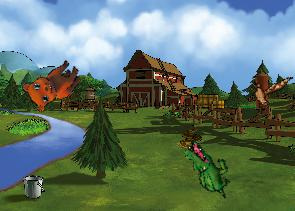bear: (17, 48, 86, 118)
crocodile: (173, 138, 242, 200)
eagle: (241, 63, 293, 120)
